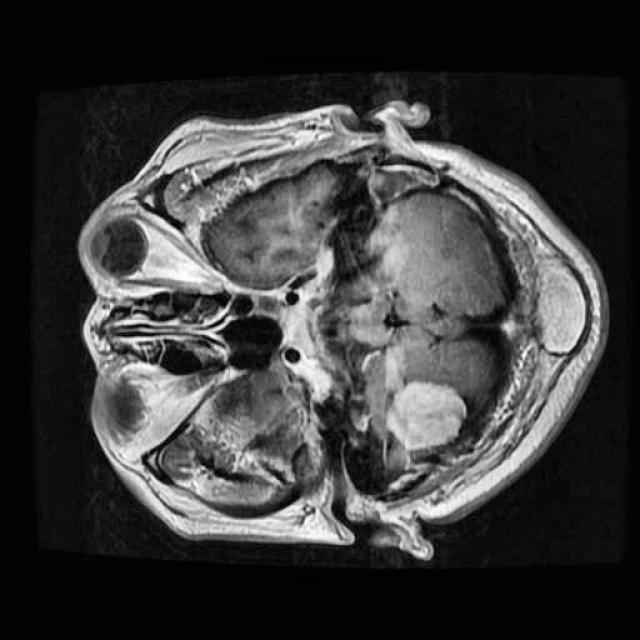Tumor: (374, 370, 479, 463)
